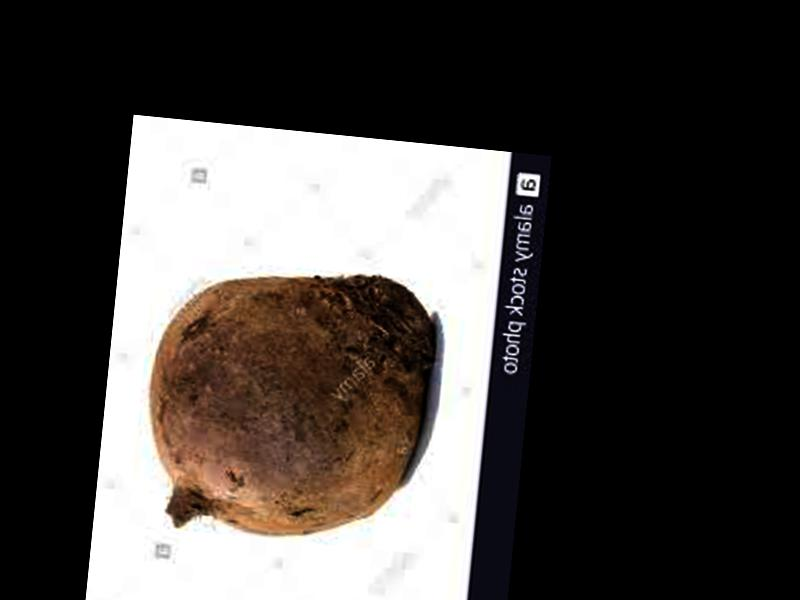Beet: (137, 257, 440, 551)
